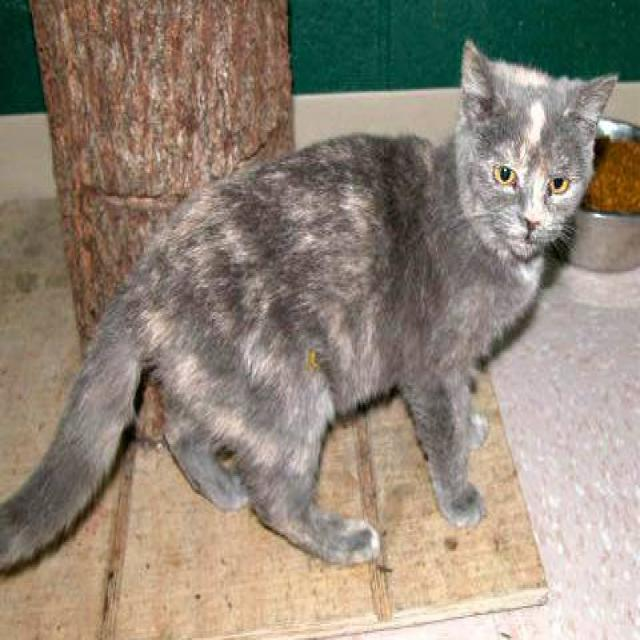cat: (0, 36, 619, 579)
